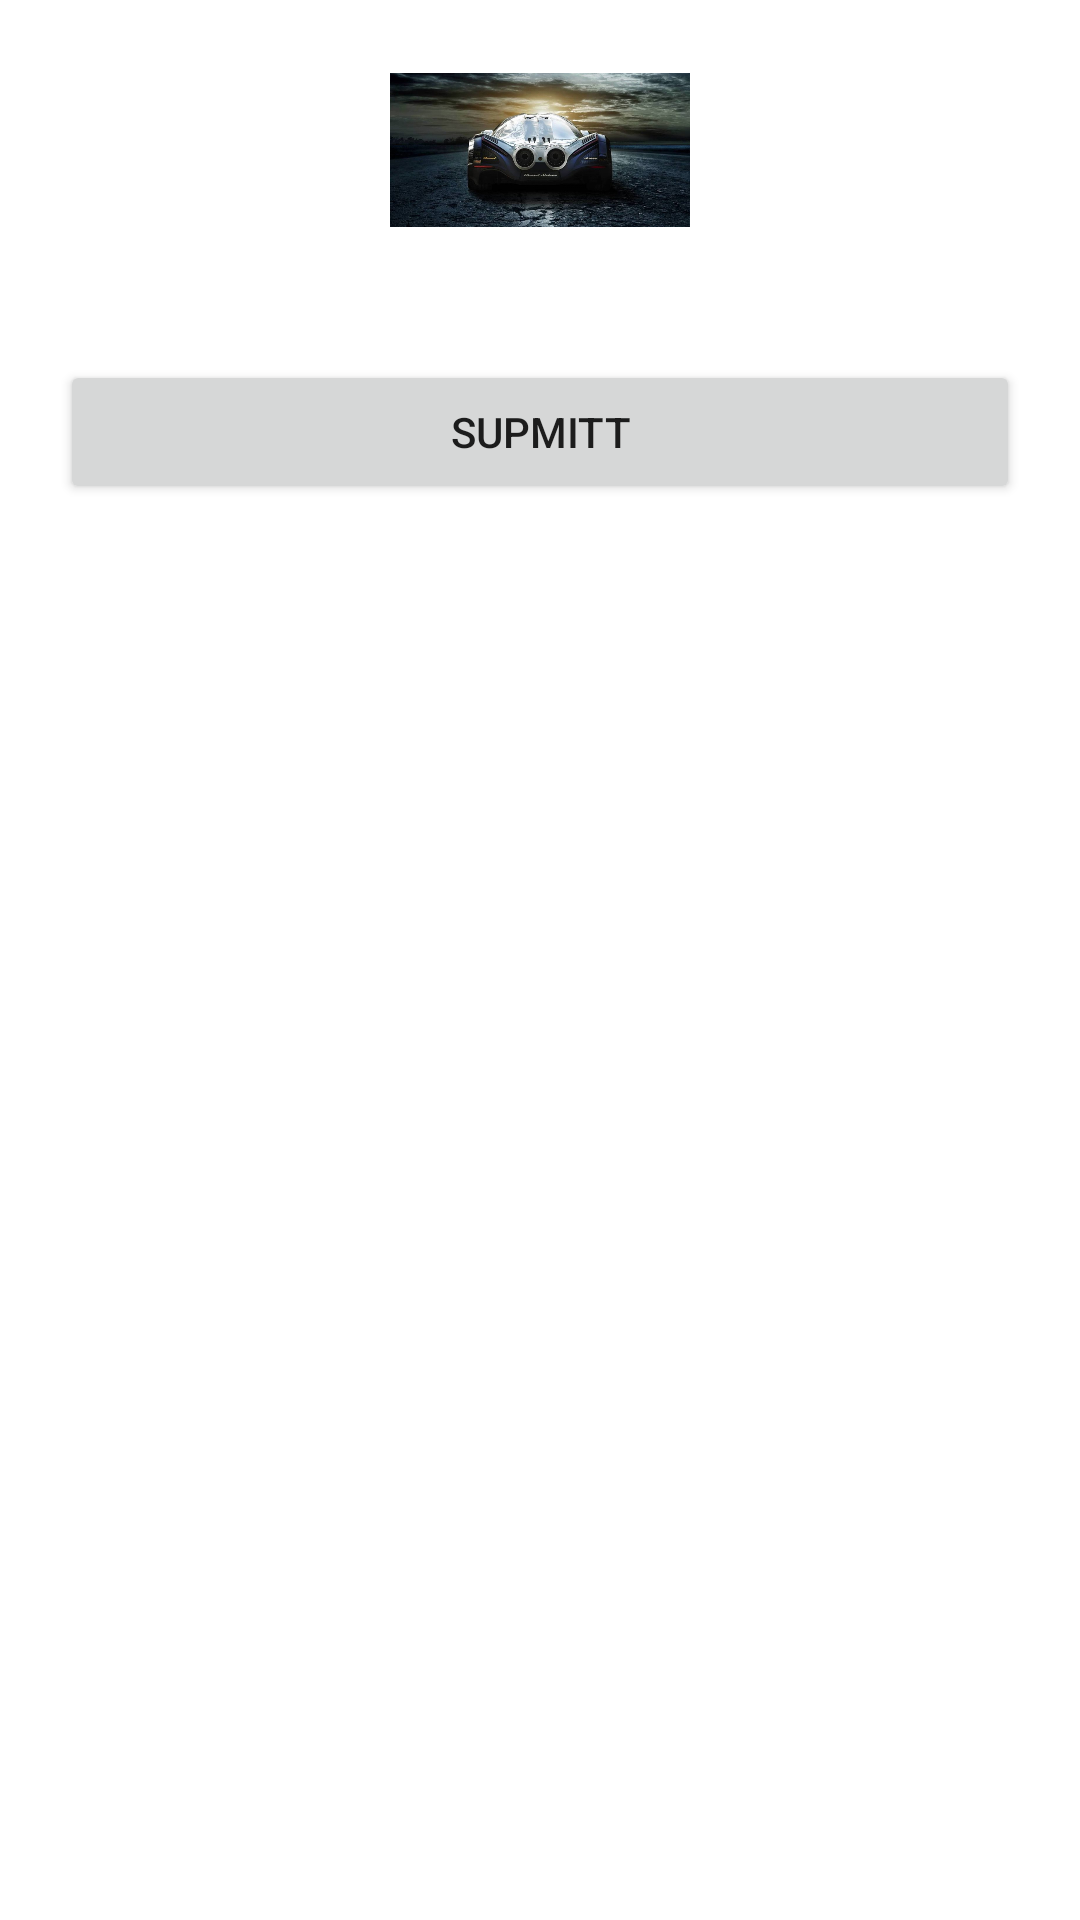

Icon click points for this 1080x1920 phone screenshot, format point (x, y):
devel: point (540, 150)
